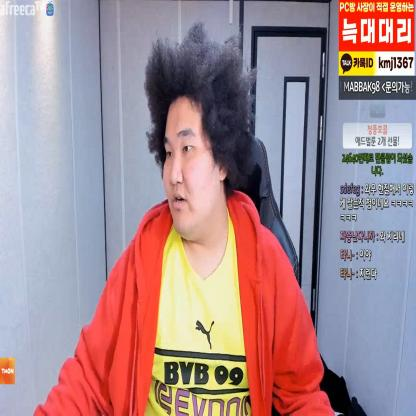streamer: (34, 20, 336, 416)
